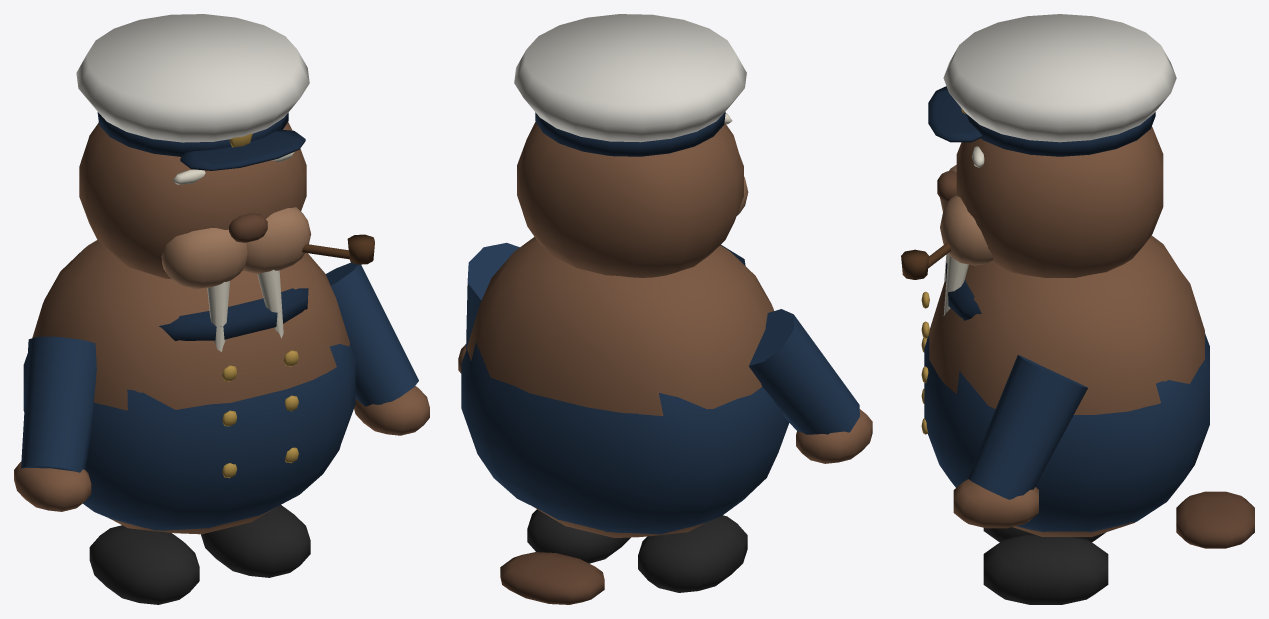
Rendered from brine.glb.
3 views of the same model, side by side, from view 1: azimuth 30°, elevation 25°; view 2: azimuth 150°, elevation 25°; view 3: azimuth 270°, elevation 25° (orthographic).
Visible parts, largest first — view 1: Brine_Body, Brine_Head, Brine_ArmR, Brine_ArmL; view 2: Brine_Body, Brine_Head, Brine_ArmR, Brine_Tail, Brine_ArmL; view 3: Brine_Body, Brine_Head, Brine_ArmL, Brine_Tail.
Boxes of the visible parts, bbox=[...] form: Brine_Body: bbox=[23, 240, 355, 604]; Brine_Head: bbox=[76, 14, 374, 351]; Brine_ArmR: bbox=[14, 336, 96, 511]; Brine_ArmL: bbox=[325, 262, 429, 435]; Brine_Body: bbox=[461, 237, 788, 592]; Brine_Head: bbox=[514, 14, 748, 277]; Brine_ArmR: bbox=[749, 309, 872, 463]; Brine_Tail: bbox=[500, 552, 604, 604]; Brine_ArmL: bbox=[458, 242, 519, 373]; Brine_Body: bbox=[921, 235, 1209, 604]; Brine_Head: bbox=[901, 14, 1176, 315]; Brine_ArmL: bbox=[953, 355, 1087, 528]; Brine_Tail: bbox=[1176, 491, 1254, 548].
Bounding box in the file's own units: 1.29 × 1.6 × 1.
